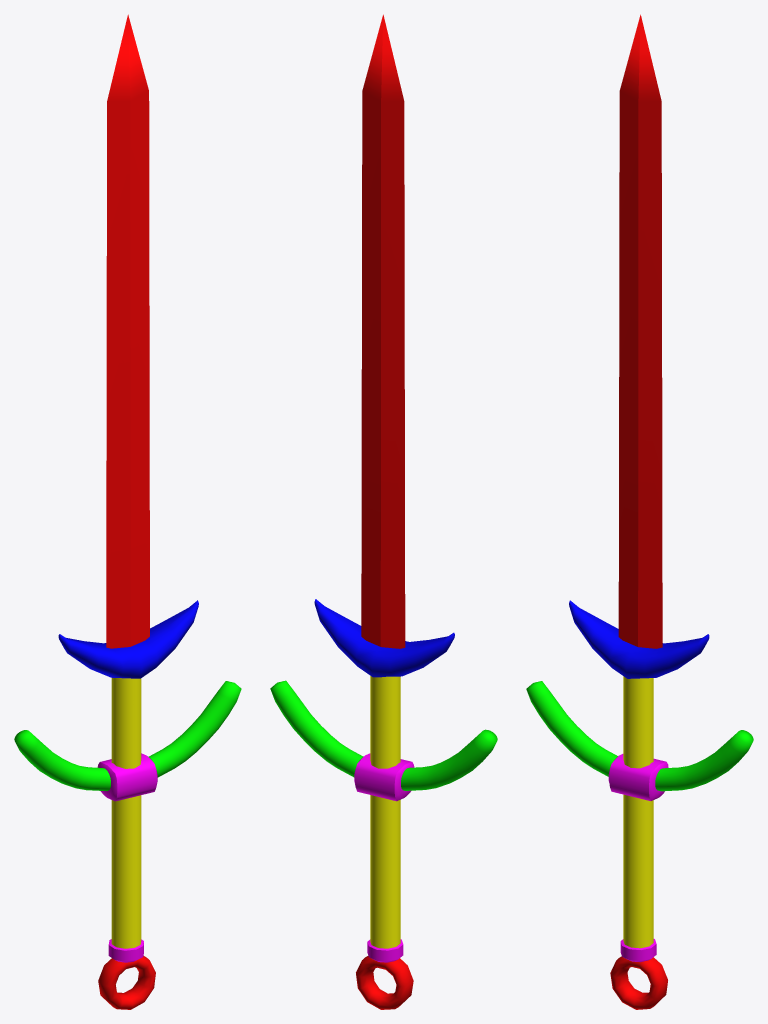
The model's file is MSH_Espada2_MID_Isaac.FBX.
The picture shows the model from 3 angles, left to right: view 1: azimuth 30°, elevation 25°; view 2: azimuth 150°, elevation 25°; view 3: azimuth 330°, elevation 25°; orthographic projection.
Visible parts, largest first — view 1: Espada_2; view 2: Espada_2; view 3: Espada_2.
Boxes of the visible parts, x1,y1,x2,y2 form: Espada_2: (14, 14, 241, 1009); Espada_2: (270, 14, 497, 1009); Espada_2: (526, 14, 753, 1009).
Size of the model in its own units: 37.54 by 159 by 7.76.
